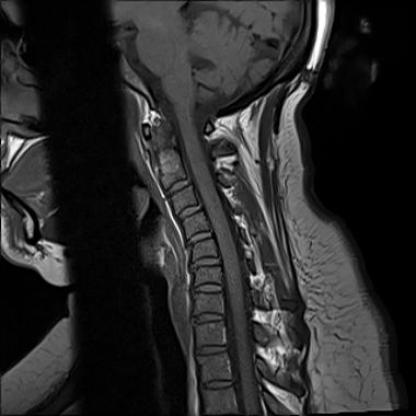Disc Bulgerotation: (187, 255, 222, 271), (183, 228, 214, 246)
